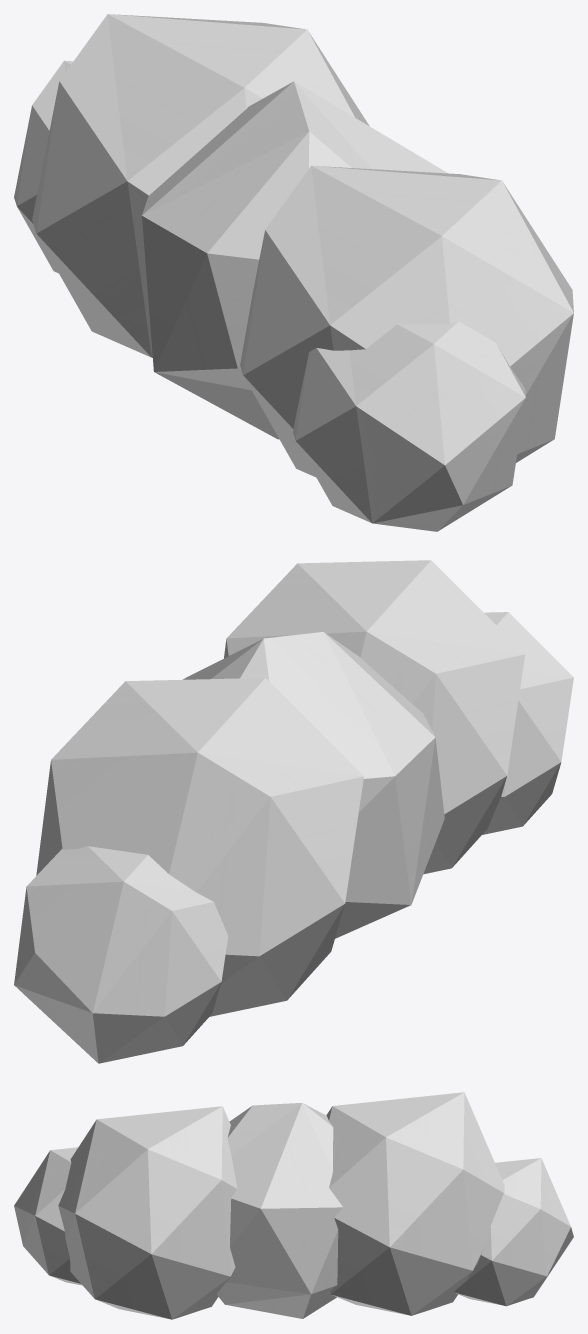
The model's file is cloud02.fbx.
The picture shows the model from 3 angles, top to bottom: view 1: azimuth 30°, elevation 25°; view 2: azimuth 150°, elevation 25°; view 3: azimuth 270°, elevation 25°; orthographic projection. The views are drawn at different scales.
Visible parts, largest first — view 1: Sphere_1, Sphere_3, cloud_1, Sphere_2, Sphere; view 2: Sphere_3, Sphere_1, Sphere, cloud_1, Sphere_2; view 3: Sphere_3, Sphere_1, cloud_1, Sphere, Sphere_2.
Part boxes in pixels (left/top/right/bottom): Sphere_1: left=240, top=165, right=573, bottom=477; Sphere_3: left=32, top=14, right=369, bottom=357; cloud_1: left=142, top=81, right=447, bottom=439; Sphere_2: left=293, top=321, right=525, bottom=531; Sphere: left=14, top=60, right=73, bottom=273; Sphere_3: left=36, top=678, right=363, bottom=1016; Sphere_1: left=224, top=560, right=525, bottom=874; Sphere: left=14, top=846, right=228, bottom=1063; cloud_1: left=183, top=632, right=444, bottom=938; Sphere_2: left=482, top=612, right=573, bottom=834; Sphere_3: left=326, top=1092, right=504, bottom=1315; Sphere_1: left=58, top=1106, right=237, bottom=1319; cloud_1: left=216, top=1103, right=342, bottom=1318; Sphere: left=453, top=1158, right=573, bottom=1306; Sphere_2: left=14, top=1147, right=82, bottom=1285.
Size of the model in its own units: 4787 by 4511 by 11037.
